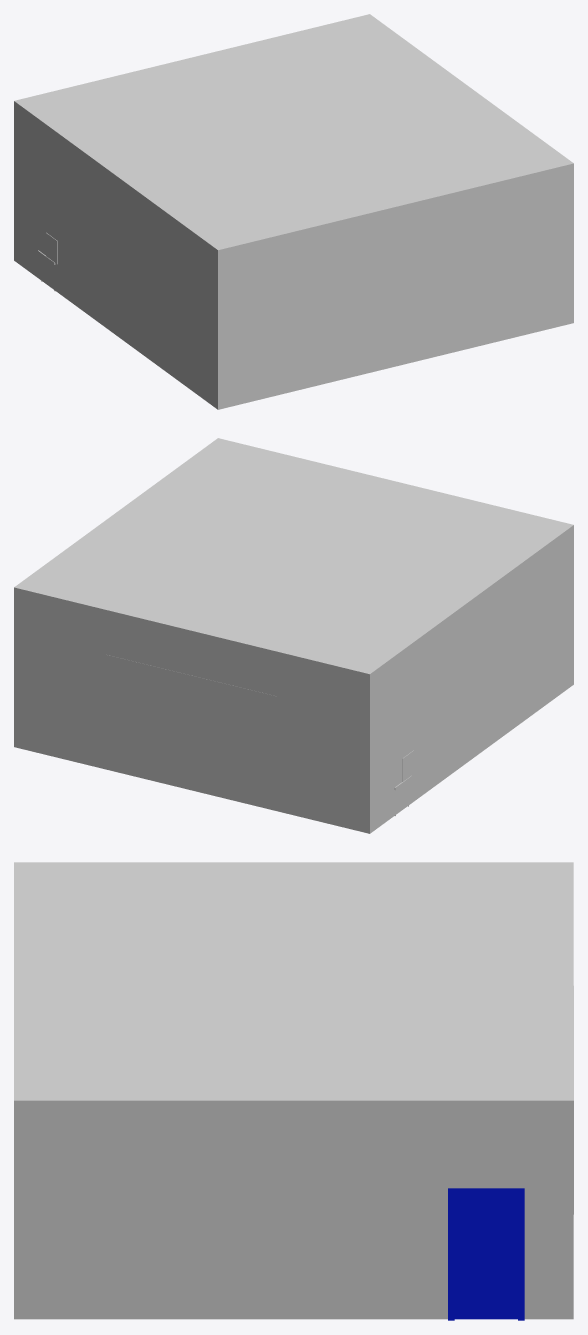
The model's file is MapCarochitos_SalaAulaV2.fbx.
3 renders of one model, top to bottom at view 1: azimuth 30°, elevation 25°; view 2: azimuth 150°, elevation 25°; view 3: azimuth 270°, elevation 25°, orthographic. The views are drawn at different scales.
Visible parts, largest first — view 1: Cube.586; view 2: Cube.586, Cube.651; view 3: Cube.586, Cube.449.
Boxes of the visible parts, box(x1,y1,x2,y2) form: Cube.586: box(14, 14, 573, 409); Cube.586: box(14, 438, 573, 833); Cube.651: box(105, 654, 277, 779); Cube.586: box(14, 862, 573, 1319); Cube.449: box(448, 1188, 524, 1320).
Bounding box in the file's own units: 906 × 392 × 897.
